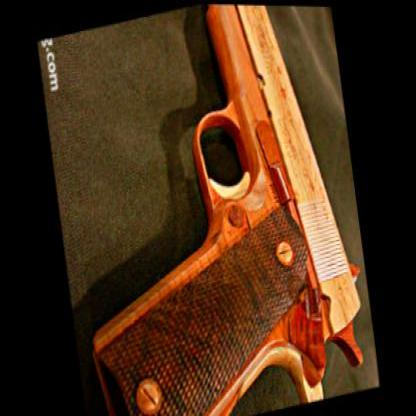pistol: (60, 0, 378, 413)
